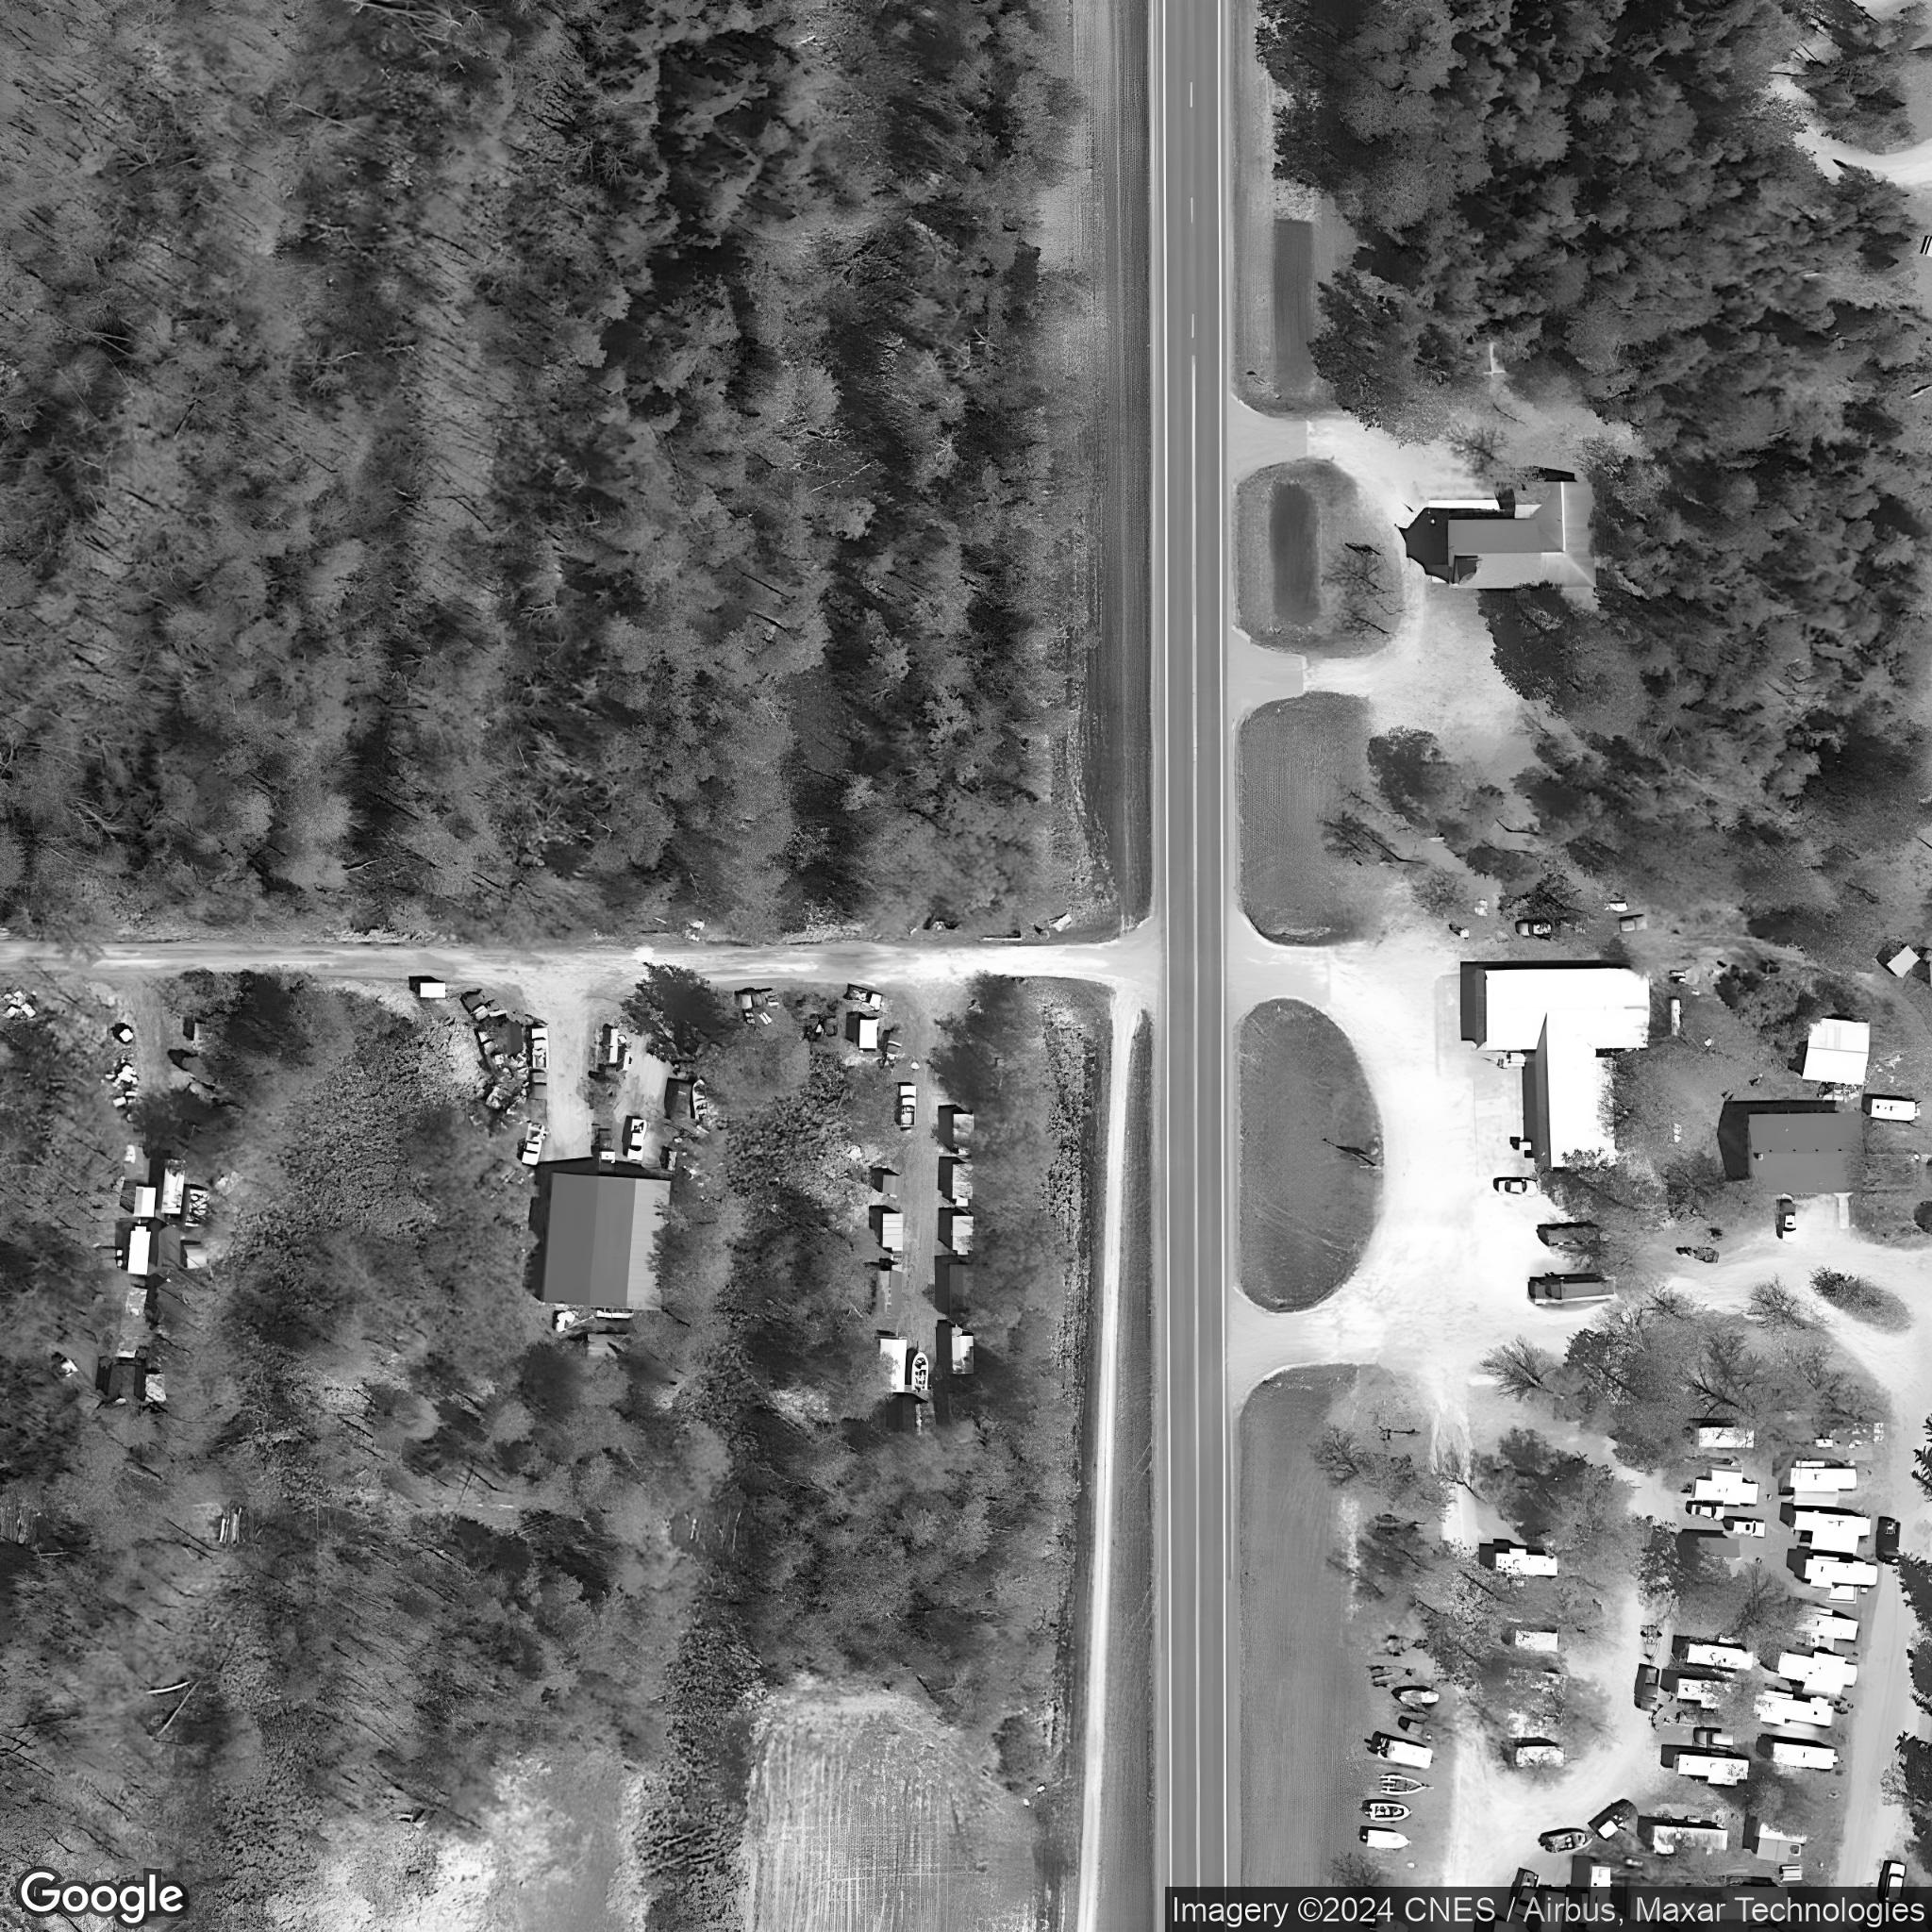Garage: (543, 1173, 672, 1315), (1801, 1017, 1870, 1085)
House: (1483, 968, 1651, 1166), (1447, 481, 1598, 589), (1746, 1113, 1865, 1194)
Propane: (1670, 1000, 1681, 1035)
Trailer: (1778, 1651, 1858, 1698), (1805, 1555, 1877, 1599), (1796, 1513, 1872, 1553), (1753, 1690, 1833, 1727), (1789, 1467, 1858, 1506), (1675, 1753, 1750, 1785), (1695, 1470, 1759, 1506), (1677, 1679, 1743, 1711), (1495, 1548, 1559, 1580), (1773, 1743, 1840, 1769), (1688, 1644, 1753, 1670), (1698, 1428, 1753, 1447)
